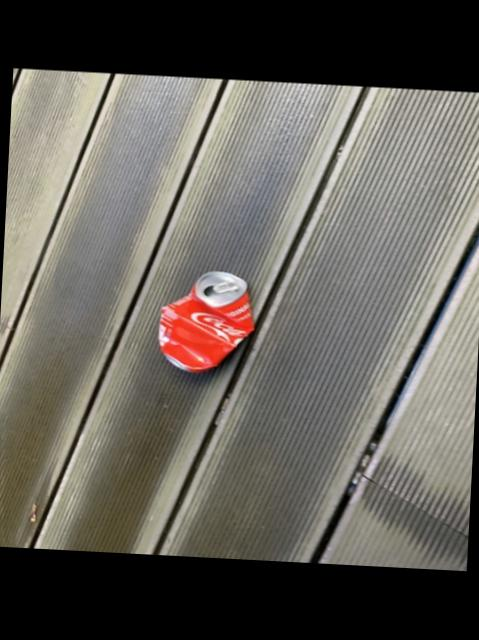metal: (159, 271, 254, 371)
